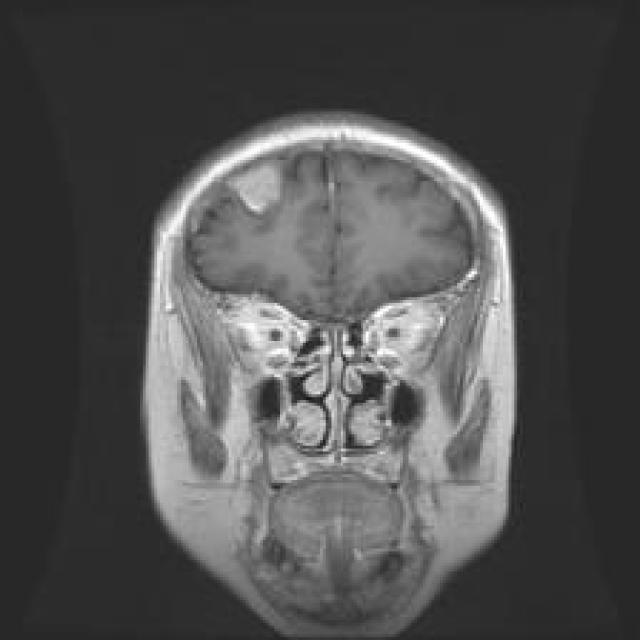meningioma_tumor: (224, 152, 306, 226)
